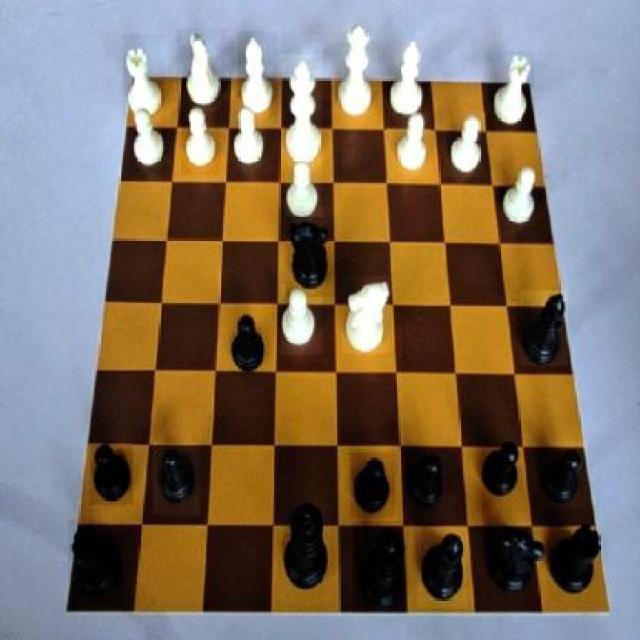bishop: (418, 528, 468, 608), (520, 290, 568, 366)
black-bishop: (280, 503, 330, 606)
black-king: (480, 520, 547, 609), (286, 218, 334, 298)
black-knight: (477, 436, 521, 512), (154, 443, 200, 515), (542, 440, 588, 508), (402, 451, 452, 512), (351, 452, 395, 518), (91, 442, 134, 506), (230, 307, 268, 378)
black-pawn: (354, 520, 409, 614)
black-queen: (68, 520, 124, 606), (548, 523, 600, 602)
black-rook: (384, 35, 428, 123), (238, 31, 278, 118)
white-bishop: (280, 54, 322, 167)
white-king: (177, 28, 225, 110), (343, 277, 391, 355)
white-knight: (496, 160, 542, 232), (229, 97, 269, 173), (280, 284, 322, 356), (388, 114, 432, 180), (182, 100, 219, 174), (443, 112, 485, 177), (286, 152, 323, 223), (129, 106, 166, 174)
white-pawn: (334, 20, 377, 119)
white-queen: (484, 51, 534, 130), (123, 34, 164, 118)
